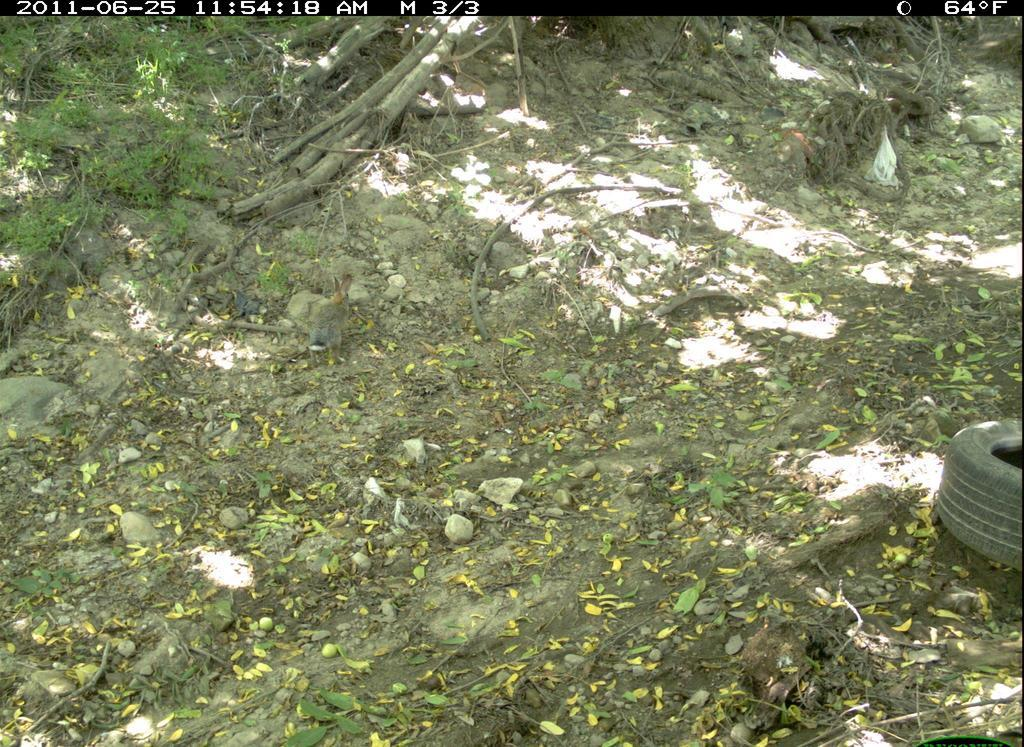rabbit: (310, 264, 359, 354)
